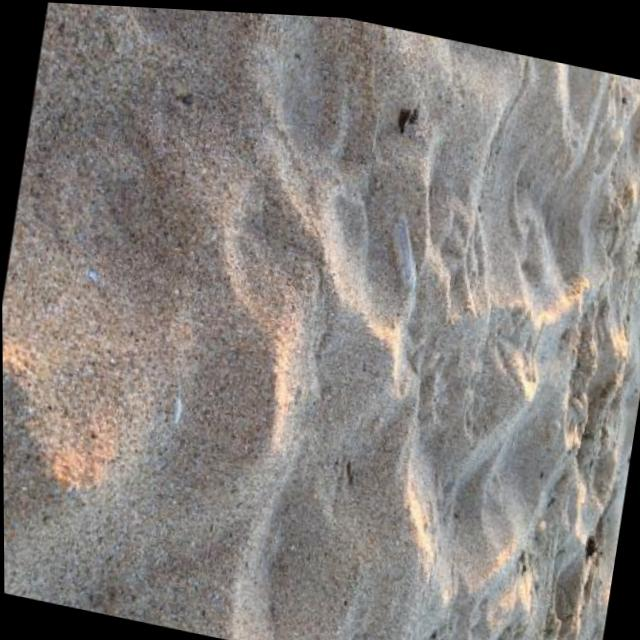plastic: (381, 211, 424, 291)
